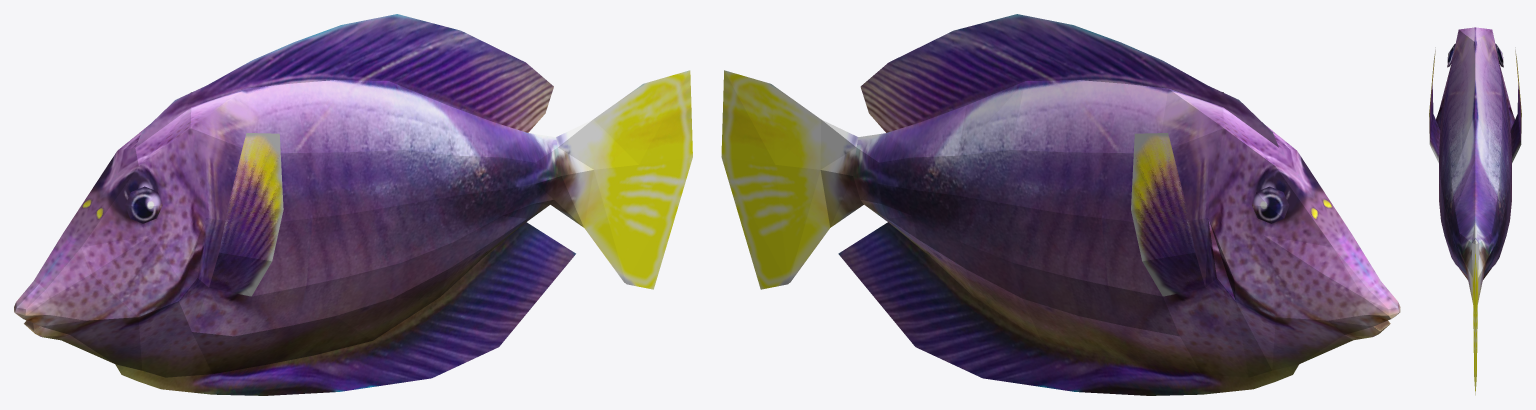
File: Pez04.obj
3 renders of one model, left to right at view 1: azimuth 30°, elevation 25°; view 2: azimuth 150°, elevation 25°; view 3: azimuth 270°, elevation 25°, orthographic. The views are drawn at different scales.
Visible parts, largest first — view 1: model:_LP_1__LP_1_1__LP; view 2: model:_LP_1__LP_1_1__LP; view 3: model:_LP_1__LP_1_1__LP.
Boxes of the visible parts, x1=… form: model:_LP_1__LP_1_1__LP: x1=14, y1=14, x2=692, y2=395; model:_LP_1__LP_1_1__LP: x1=721, y1=14, x2=1400, y2=395; model:_LP_1__LP_1_1__LP: x1=1429, y1=27, x2=1521, y2=395.
Size of the model in its own units: 1.44 by 0.7593 by 0.2404.
Materials: 1 (1 with a texture image).
